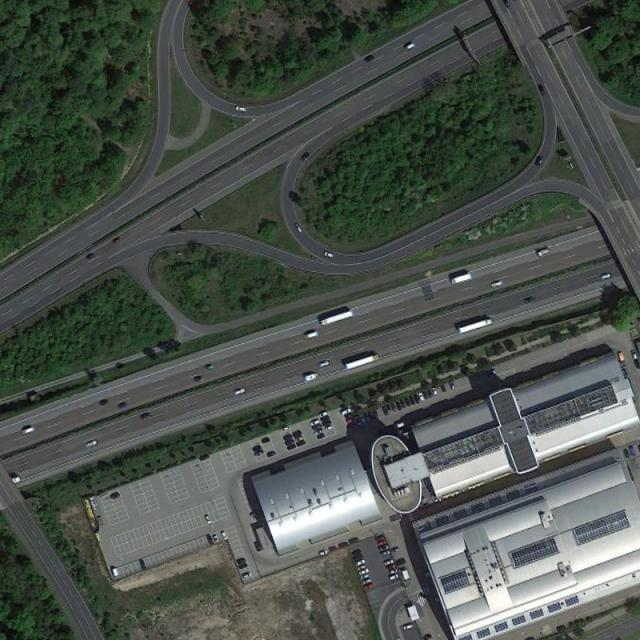vehicle: (344, 351, 382, 370), (319, 309, 354, 328), (458, 316, 494, 334), (451, 272, 472, 286), (6, 474, 21, 488), (303, 328, 320, 340), (536, 246, 551, 258), (302, 371, 318, 382), (19, 426, 35, 437), (402, 41, 416, 53), (490, 279, 503, 290), (85, 439, 98, 449), (294, 221, 304, 234), (234, 386, 246, 396), (358, 567, 370, 577), (399, 399, 409, 410), (363, 582, 375, 591), (204, 514, 213, 526), (322, 250, 335, 258), (354, 559, 367, 567), (522, 297, 535, 305), (503, 1, 513, 11), (319, 359, 330, 368), (301, 152, 310, 163), (382, 406, 391, 417), (220, 531, 229, 542), (538, 84, 546, 96), (350, 537, 362, 545), (402, 623, 414, 631), (234, 104, 246, 112), (139, 559, 147, 571), (113, 567, 120, 580), (310, 419, 320, 428), (396, 401, 404, 412), (291, 430, 302, 438), (293, 435, 304, 443), (238, 562, 249, 570), (600, 273, 612, 280), (630, 444, 636, 458), (338, 542, 350, 549), (254, 449, 263, 458), (342, 407, 352, 415), (316, 433, 326, 441), (439, 383, 447, 393), (319, 549, 329, 557), (380, 545, 390, 553), (390, 574, 400, 582), (200, 454, 210, 462), (236, 558, 247, 565), (535, 157, 543, 166), (630, 351, 639, 359), (426, 389, 434, 398), (313, 430, 322, 438), (242, 572, 251, 580), (113, 236, 122, 244), (110, 493, 122, 499), (391, 403, 398, 413), (418, 392, 425, 402), (362, 578, 372, 585), (624, 447, 630, 458), (252, 446, 263, 452), (99, 398, 107, 406), (320, 410, 329, 417), (633, 359, 640, 368), (409, 397, 416, 406), (414, 394, 421, 403), (423, 390, 430, 399), (450, 382, 457, 391), (262, 437, 271, 444), (381, 549, 390, 556), (385, 559, 394, 566), (297, 441, 307, 447), (406, 398, 412, 408), (432, 386, 438, 396), (213, 534, 219, 544), (142, 413, 152, 419), (194, 376, 204, 382), (285, 439, 295, 445), (366, 55, 374, 62), (86, 253, 94, 260), (206, 363, 214, 370), (254, 542, 261, 550), (281, 426, 290, 432), (118, 402, 127, 408), (392, 547, 401, 553), (267, 451, 275, 457), (357, 565, 365, 571), (329, 546, 337, 552), (287, 445, 296, 450), (283, 434, 292, 439), (390, 569, 398, 574), (378, 541, 387, 545)
